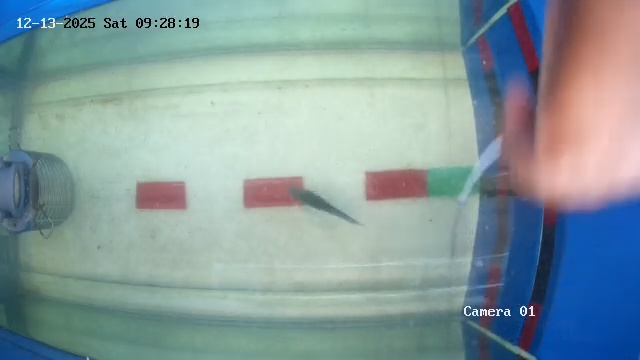fish: (296, 190, 371, 232)
